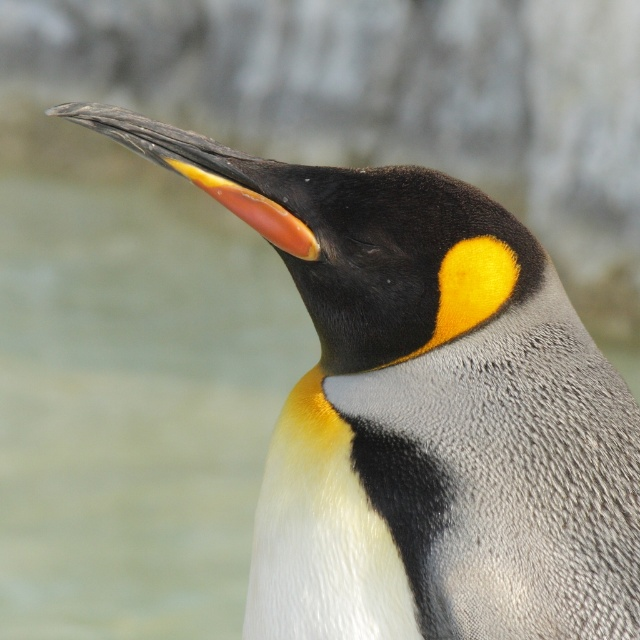Penguin: (44, 103, 640, 640)
